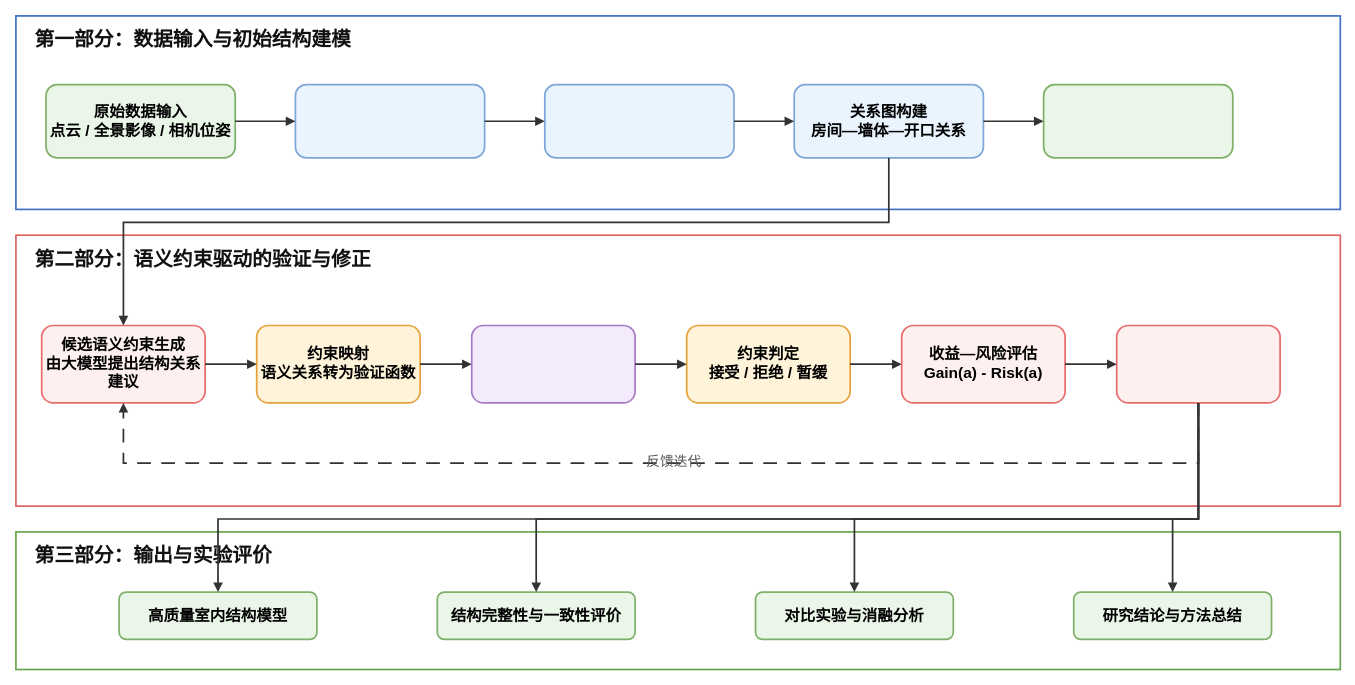
The diagram is 1355 pixels wide and 685 high, and some of its shapes have lost their labels. Each missing label, with the centre of its shape:
"几何—拓扑验证 点云证据与关系一致性判断" goes at pixel 553 363.
"初始模型输出 可编辑结构模型" goes at pixel 1137 120.
"初始结构模型 二维墙线 + 三维结构" goes at pixel 639 120.
"受控修正与更新 局部修正结构模型" goes at pixel 1198 363.
"结构要素提取 墙体 / 房间边界 / 门窗开口" goes at pixel 389 120.
